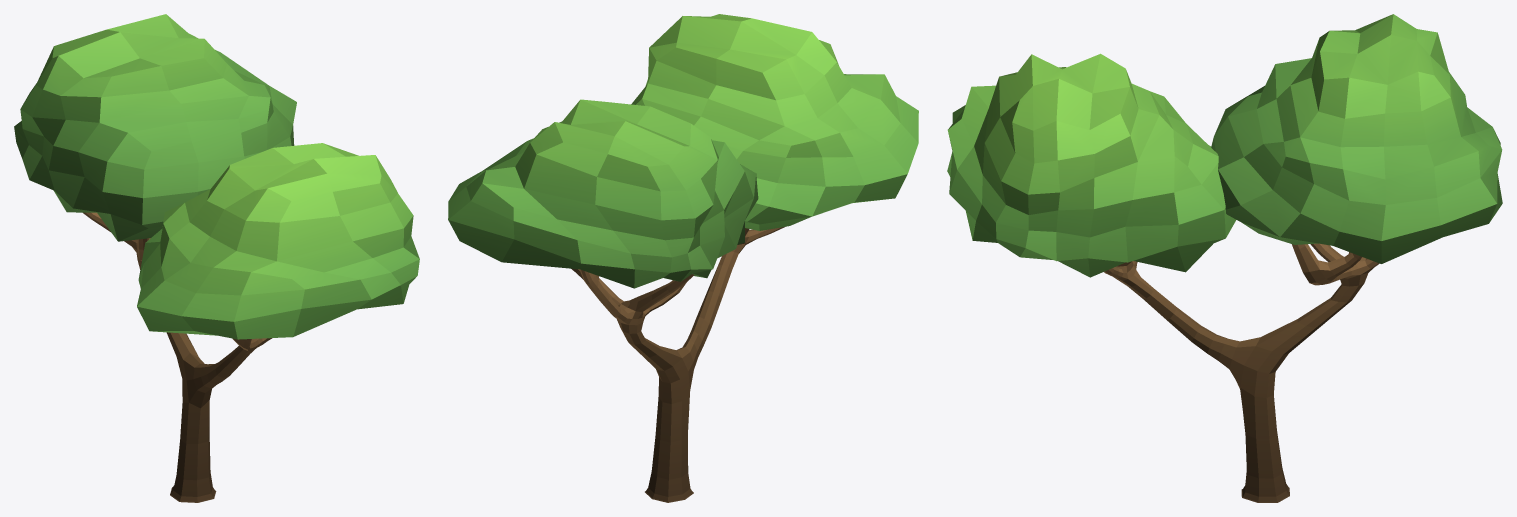
Rendered from CommonTree1.fbx.
3 renders of one model, left to right at view 1: azimuth 30°, elevation 25°; view 2: azimuth 150°, elevation 25°; view 3: azimuth 270°, elevation 25°, orthographic. The views are drawn at different scales.
Visible parts, largest first — view 1: CommonTree_1_Cube.001, CommonTree_1_Cube.049; view 2: CommonTree_1_Cube.001, CommonTree_1_Cube.049; view 3: CommonTree_1_Cube.001, CommonTree_1_Cube.049.
Part boxes in pixels (x1=…): CommonTree_1_Cube.001: x1=14, y1=14, x2=419, y2=339; CommonTree_1_Cube.049: x1=83, y1=212, x2=272, y2=502; CommonTree_1_Cube.001: x1=448, y1=14, x2=918, y2=288; CommonTree_1_Cube.049: x1=571, y1=226, x2=785, y2=502; CommonTree_1_Cube.001: x1=947, y1=14, x2=1502, y2=277; CommonTree_1_Cube.049: x1=1104, y1=243, x2=1379, y2=502.
Bounding box in the file's own units: 189 × 248 × 277.
